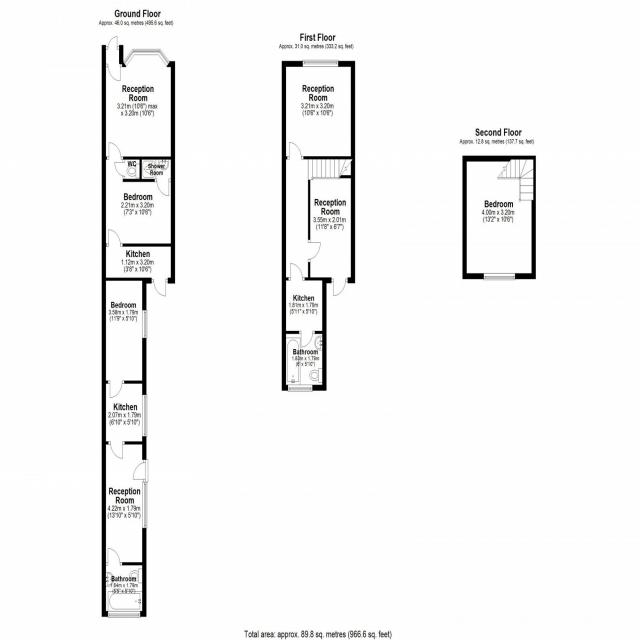DOOR: (133, 459, 148, 483), (105, 547, 123, 566), (331, 277, 348, 297), (288, 262, 305, 281), (151, 278, 168, 297), (308, 239, 321, 263), (287, 142, 304, 160), (108, 441, 125, 459), (108, 380, 125, 398), (106, 229, 123, 247), (106, 63, 123, 81), (154, 179, 171, 196), (107, 142, 123, 160), (299, 331, 315, 348), (114, 159, 125, 179)
ROOM: (462, 155, 536, 281), (101, 48, 175, 160), (102, 142, 175, 247), (281, 59, 355, 160), (308, 175, 355, 297), (101, 277, 147, 398), (102, 229, 175, 297), (282, 262, 327, 348), (101, 380, 147, 459)
WINDOW: (123, 48, 170, 67), (107, 610, 141, 619), (302, 59, 339, 67), (142, 482, 148, 529), (483, 273, 516, 281), (142, 394, 147, 437), (288, 384, 313, 392), (142, 310, 147, 339)
